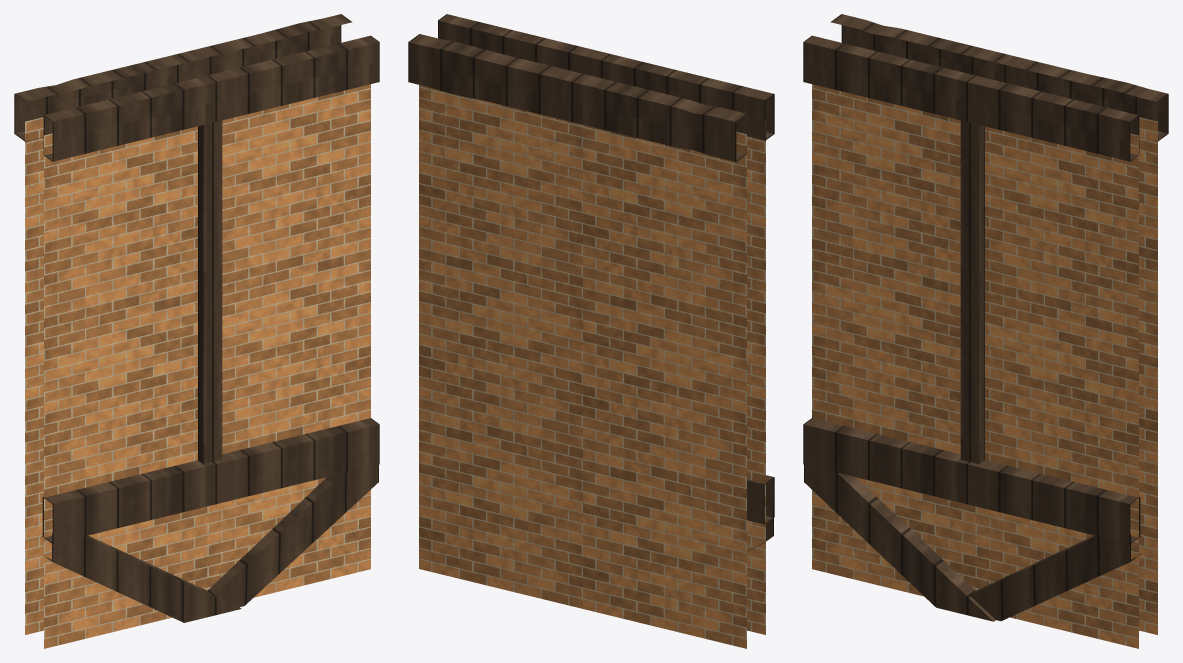
Rendered from Wall_OchreBrick_Straight.gltf.
3 views of the same model, side by side, from view 1: azimuth 30°, elevation 25°; view 2: azimuth 150°, elevation 25°; view 3: azimuth 330°, elevation 25° (orthographic).
Visible parts, largest first — view 1: Wall_OchreBrick_Straight; view 2: Wall_OchreBrick_Straight; view 3: Wall_OchreBrick_Straight.
Boxes of the visible parts, x1=… form: Wall_OchreBrick_Straight: x1=14, y1=14, x2=379, y2=648; Wall_OchreBrick_Straight: x1=408, y1=14, x2=774, y2=648; Wall_OchreBrick_Straight: x1=803, y1=14, x2=1168, y2=648.
Bounding box in the file's own units: 2 × 3.12 × 0.406.
Materials: 2 (2 with a texture image).
